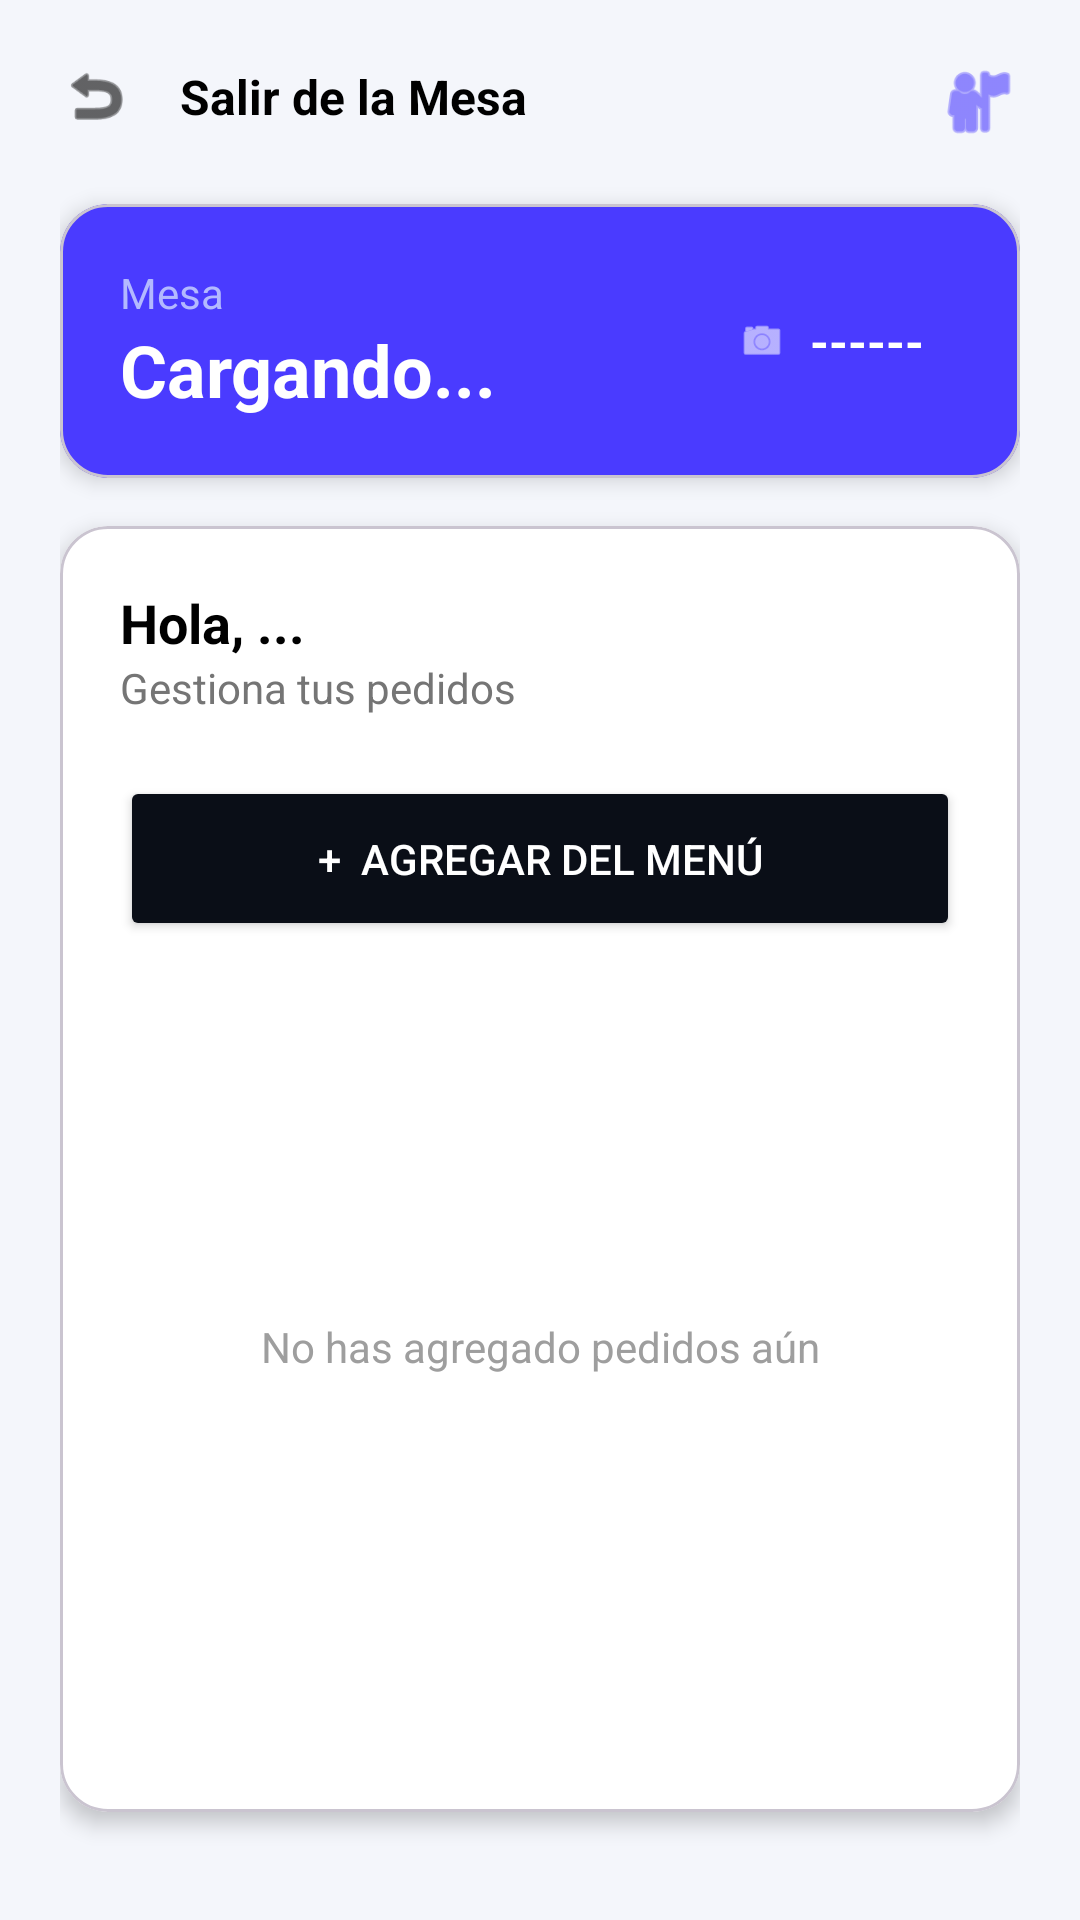

Locate icon controls on the screen. Image size 1080x1920, boxes as bbox=(x1, y1, x2, y2).
camera: bbox=(743, 325, 781, 355)
revert: bbox=(71, 73, 123, 120)
